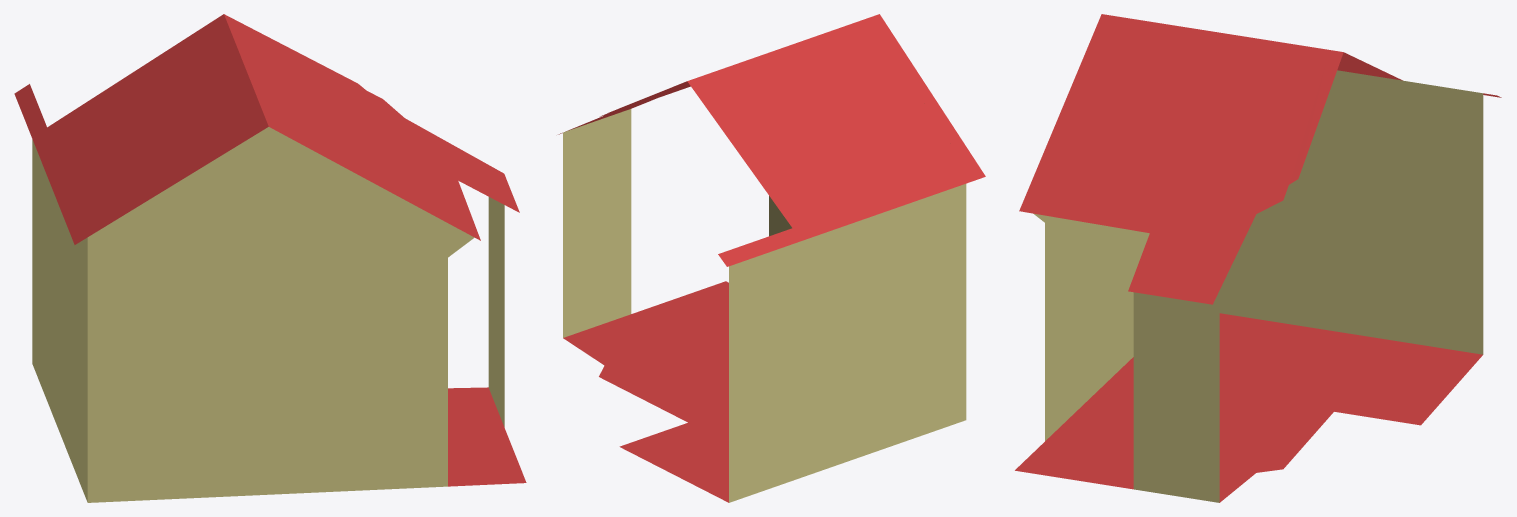
The picture shows the model from 3 angles, left to right: view 1: azimuth 30°, elevation 25°; view 2: azimuth 150°, elevation 25°; view 3: azimuth 270°, elevation 25°; orthographic projection. The views are drawn at different scales.
Bounding box in the file's own units: 16.55 × 16.34 × 13.22.
